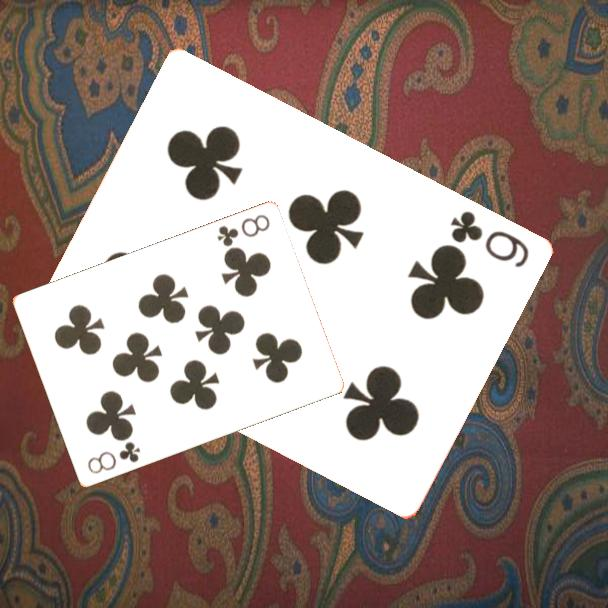c06: (446, 207, 532, 271)
c08: (213, 211, 273, 250), (84, 438, 143, 477)
